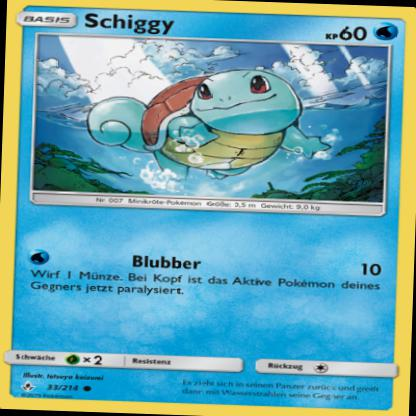Squirtle: (83, 60, 333, 188)
